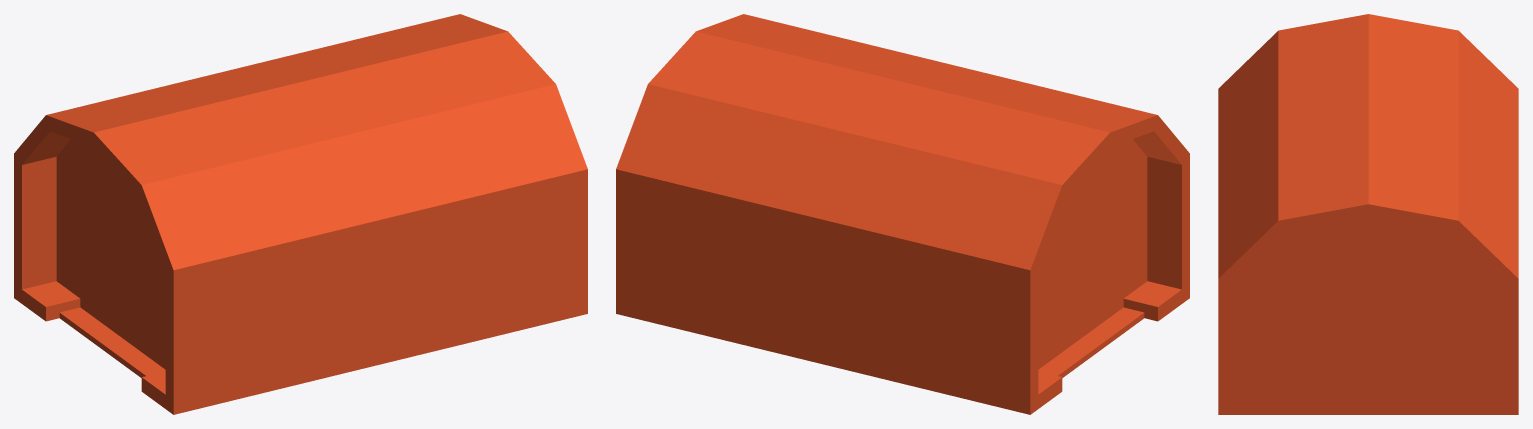
File: House_4.fbx
The picture shows the model from 3 angles, left to right: view 1: azimuth 30°, elevation 25°; view 2: azimuth 150°, elevation 25°; view 3: azimuth 270°, elevation 25°; orthographic projection. The views are drawn at different scales.
Parts seen in each view (by area): view 1: Cube.013; view 2: Cube.013; view 3: Cube.013.
Boxes of the visible parts, <box> form: Cube.013: <box>14,14,587,414</box>; Cube.013: <box>616,14,1189,414</box>; Cube.013: <box>1218,14,1518,414</box>.
Bounding box in the file's own units: 300 × 155 × 200.
